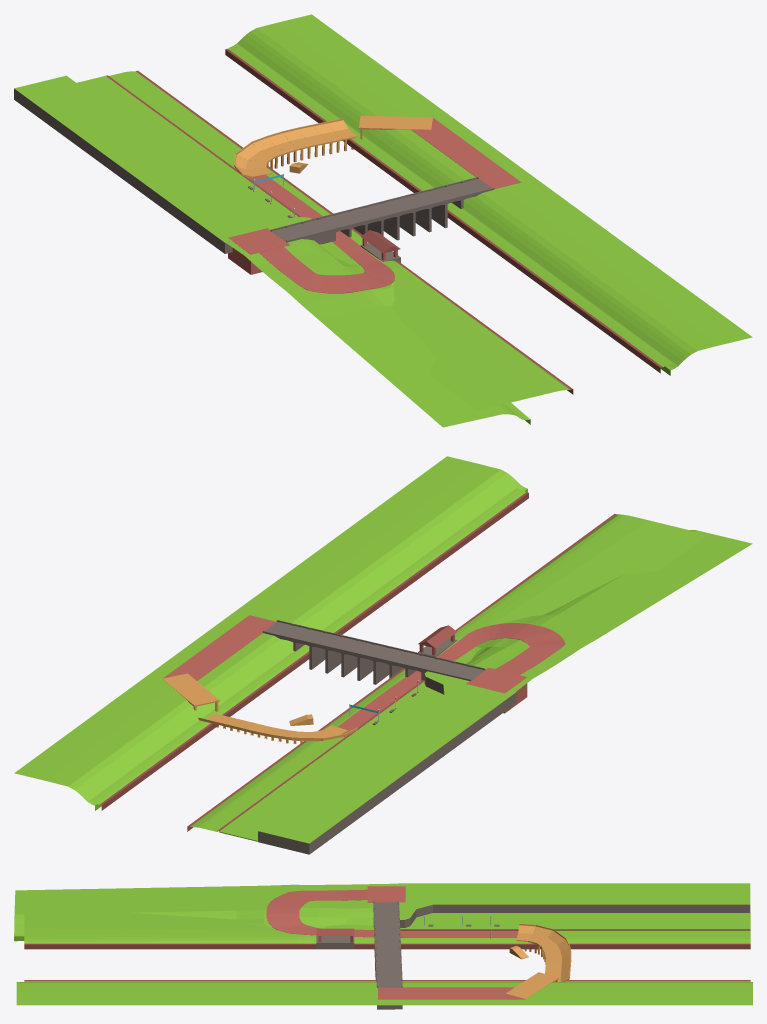
3 views of the same model, one above another, from view 1: azimuth 30°, elevation 25°; view 2: azimuth 150°, elevation 25°; view 3: azimuth 270°, elevation 25° (orthographic). The views are drawn at different scales.
Visible parts, largest first — view 1: Hill 2, Offroad1, Wall, Hill, Borders, Road Bridge, Cube.004, Cube.002, Cube.003, Cube, Intersection1, Road Bridge NoGap (+1 smaller); view 2: Hill 2, Offroad1, Wall, Hill, Borders, Road Bridge, Cube.002, Cube.003, Cube.004, Cube, Intersection1, RoadWood2 (+1 smaller); view 3: Offroad1, Hill 2, Wall, Hill, Borders, Cube.002, Road Bridge, Cube.004, Cube.003, Cube, RoadWood2, Intersection1 (+3 smaller).
Boxes of the visible parts, <box> form: Hill 2: <box>229,14,752,375</box>; Offroad1: <box>77,45,672,410</box>; Wall: <box>14,75,311,253</box>; Hill: <box>226,239,530,427</box>; Borders: <box>106,48,662,394</box>; Road Bridge: <box>319,177,494,240</box>; Cube.004: <box>234,118,357,177</box>; Cube.002: <box>259,246,394,293</box>; Cube.003: <box>411,118,521,188</box>; Cube: <box>248,174,366,255</box>; Intersection1: <box>228,228,289,274</box>; Road Bridge NoGap: <box>270,217,334,244</box>; Hill 2: <box>14,456,527,810</box>; Offroad1: <box>89,488,708,841</box>; Wall: <box>258,671,516,854</box>; Hill: <box>466,530,752,691</box>; Borders: <box>99,492,616,831</box>; Road Bridge: <box>262,620,436,684</box>; Cube.002: <box>443,623,565,674</box>; Cube.003: <box>163,615,276,680</box>; Cube.004: <box>198,713,357,743</box>; Cube: <box>338,652,459,730</box>; Intersection1: <box>466,667,527,713</box>; RoadWood2: <box>162,673,219,711</box>; Offroad1: <box>24,904,750,981</box>; Hill 2: <box>16,982,752,1005</box>; Wall: <box>398,883,750,927</box>; Hill: <box>14,883,398,941</box>; Borders: <box>24,929,750,980</box>; Cube.002: <box>266,889,367,935</box>; Road Bridge: <box>374,920,402,1009</box>; Cube.004: <box>516,923,571,981</box>; Cube.003: <box>378,987,525,999</box>; Cube: <box>354,929,518,937</box>; RoadWood2: <box>506,972,558,998</box>; Intersection1: <box>367,886,405,902</box>.
Bounding box in the file's own units: 346 × 38.06 × 855.
